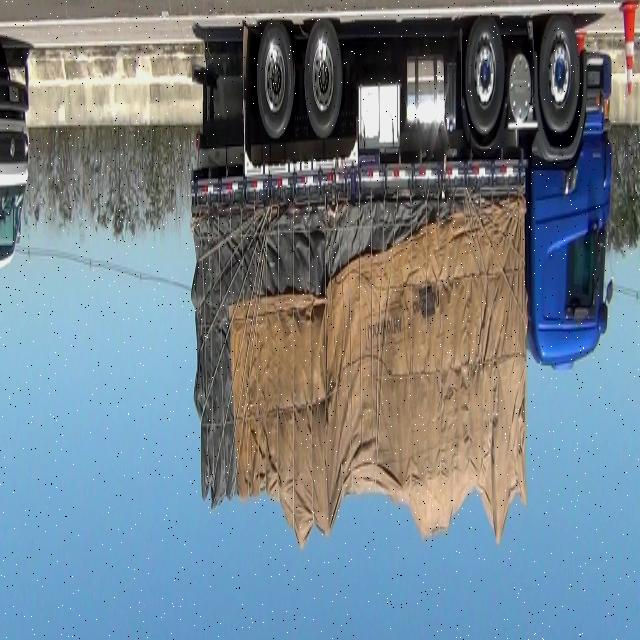-axle: (540, 14, 580, 138), (304, 20, 343, 137), (466, 19, 504, 137), (258, 17, 294, 135)
